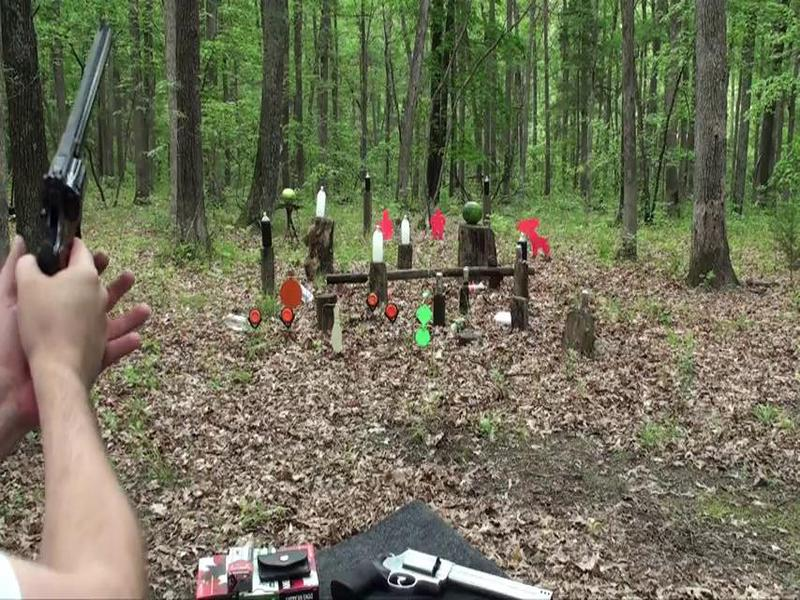Revolver: (20, 24, 129, 289)
